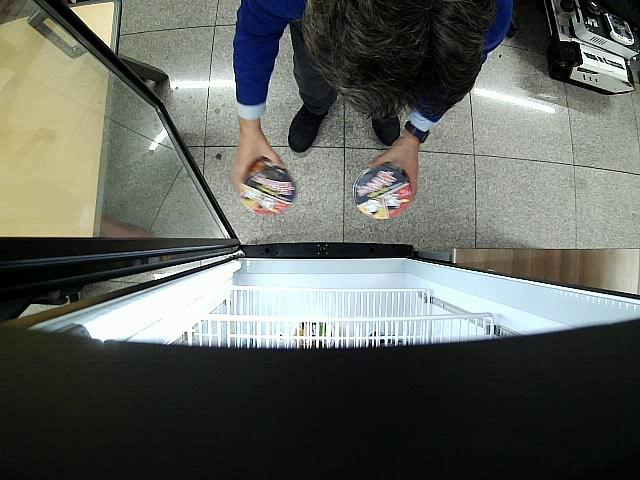00_hand: (230, 130, 288, 198), (366, 137, 419, 202)
07_buldak_L: (241, 156, 296, 215), (353, 164, 412, 219)
